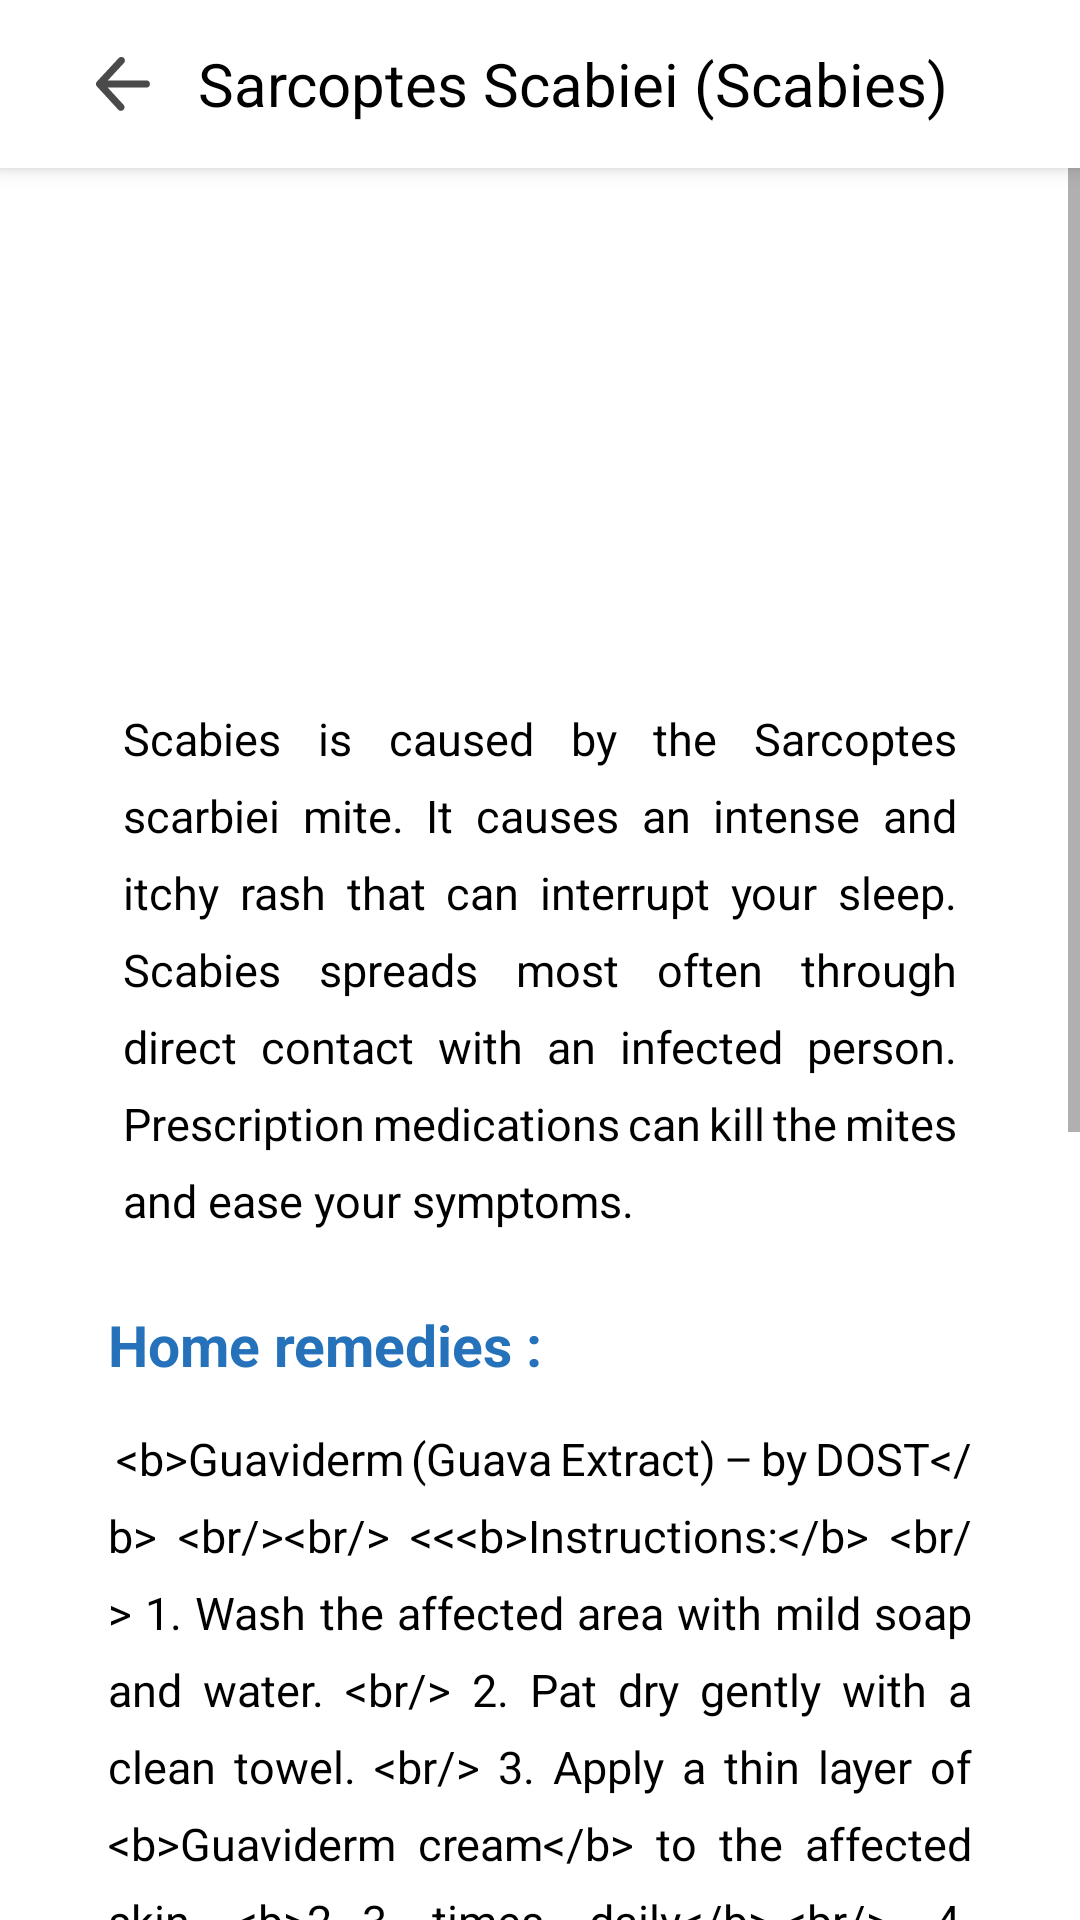

Named icons in this screenshot (1080w x 1920h) and their centers, (x,y):
Back: (123,84)
